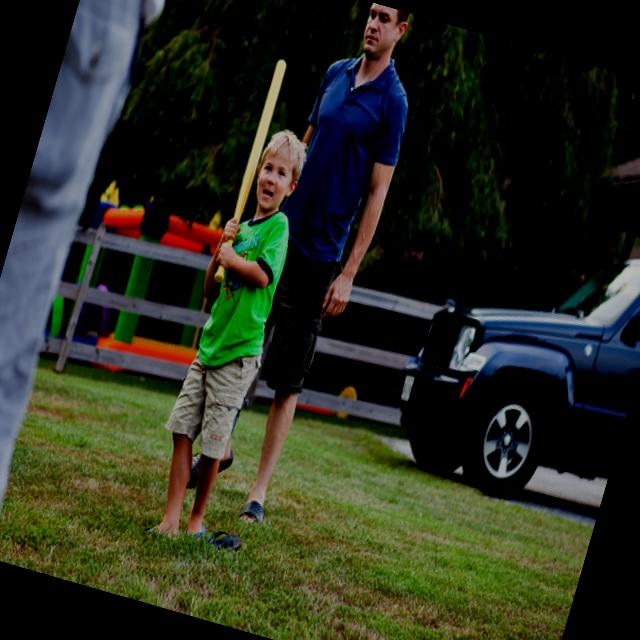Vehicle: (368, 188, 640, 521)
